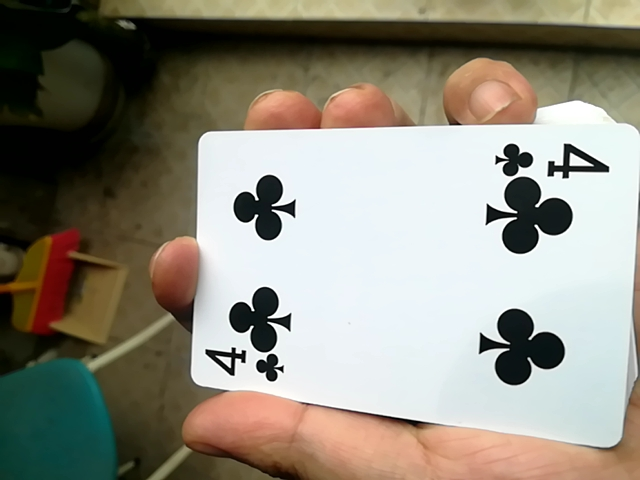mh 4: (167, 117, 638, 445)
